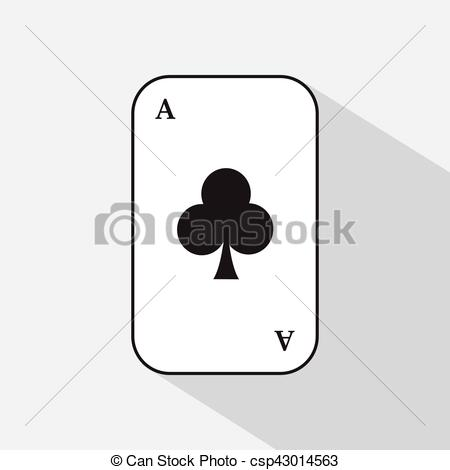ace of clubs: (131, 75, 318, 373)
